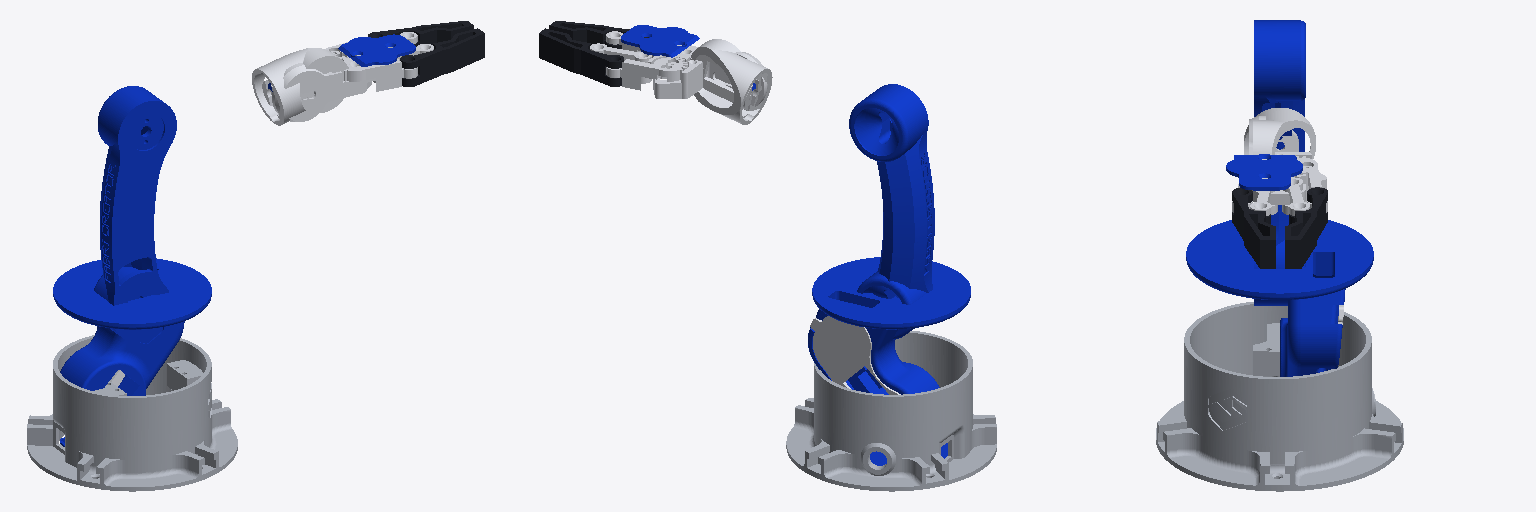
The robot description file, URDF, robot "mobile_retrieval_arm":
<?xml version="1.0"?>
<robot name="mobile_retrieval_arm">

  <!--
    형상과 관절 방향을 확인하기 위한 초기 URDF입니다.
    STL은 mm 단위이므로 0.001 배율로 불러옵니다.
    기준 길이: Base 60 mm, Base-Shoulder 40 mm,
    Shoulder-Elbow 120 mm, Elbow-Wrist 120 mm, Wrist-Gripper 125 mm.
    출력 부품과 서보의 나열 항목 합계는 461.22 g입니다.
    링크별 관성과 충돌 형상은 시뮬레이션 근사값이며 실물 안전 판정에 사용하지 않습니다.
  -->

  <material name="base_gray">
    <color rgba="0.72 0.74 0.78 1.0"/>
  </material>
  <material name="arm_blue">
    <color rgba="0.08 0.25 0.82 1.0"/>
  </material>
  <material name="arm_white">
    <color rgba="0.88 0.89 0.92 1.0"/>
  </material>
  <material name="gripper_dark">
    <color rgba="0.16 0.17 0.20 1.0"/>
  </material>

  <link name="base_link">
    <!-- 질량은 실측, COM·관성·충돌 형상은 단순 원통 근사입니다. -->
    <inertial>
      <origin xyz="0 0 0.020" rpy="0 0 0"/>
      <mass value="0.137140"/>
      <inertia ixx="1.963e-4" ixy="0" ixz="0"
               iyy="1.963e-4" iyz="0" izz="2.074e-4"/>
    </inertial>
    <visual>
      <!-- 캡처의 앞뒤 방향에 맞춰 수직축으로 180도 보정합니다. -->
      <origin xyz="0 0 0" rpy="0 0 3.14159"/>
      <geometry>
        <mesh filename="base.stl" scale="0.001 0.001 0.001"/>
      </geometry>
      <material name="base_gray"/>
    </visual>
    <visual>
      <!-- Base cover의 중심 높이를 Base 기준 0 mm로 배치합니다. -->
      <origin xyz="0.04068 -0.09288 -0.03904" rpy="1.5708 0 3.14159"/>
      <geometry>
        <mesh filename="base_cover.stl" scale="0.001 0.001 0.001"/>
      </geometry>
      <material name="arm_blue"/>
    </visual>
    <collision>
      <origin xyz="0 0 0.020" rpy="0 0 0"/>
      <geometry><cylinder radius="0.055" length="0.080"/></geometry>
    </collision>
  </link>

  <link name="base_yaw_link">
    <inertial>
      <origin xyz="0.001113 0.005163 0.016565" rpy="0 0 0"/>
      <mass value="0.114160"/>
      <inertia ixx="8.132757157e-5" ixy="-2.417595347e-6" ixz="-7.328531391e-6"
               iyy="9.536154170e-5" iyz="8.260441071e-6" izz="6.015328680e-5"/>
    </inertial>
    <visual>
      <!-- 중심 높이 60 mm에서 X축 기준 -90도로 회전합니다. -->
      <origin xyz="-0.04078 -0.09288 0.14050" rpy="-1.5708 0 0"/>
      <geometry>
        <mesh filename="central_shaft.stl" scale="0.001 0.001 0.001"/>
      </geometry>
      <material name="arm_blue"/>
    </visual>
    <visual>
      <origin xyz="-0.04078 -0.09288 0.14050" rpy="-1.5708 0 0"/>
      <geometry>
        <mesh filename="shaft_cover.stl" scale="0.001 0.001 0.001"/>
      </geometry>
      <material name="arm_white"/>
    </visual>
    <collision>
      <origin xyz="0 0 0" rpy="0 0 0"/>
      <geometry><cylinder radius="0.047" length="0.090"/></geometry>
    </collision>
  </link>

  <joint name="base_yaw_joint" type="revolute">
    <parent link="base_link"/>
    <child link="base_yaw_link"/>
    <origin xyz="0 0 0.060" rpy="0 0 0"/>
    <axis xyz="0 0 1"/>
    <!-- 시뮬레이션 전용 제한이며 실제 기구의 안전 범위를 의미하지 않습니다. -->
    <limit lower="-1.5708" upper="1.5708" effort="1.0" velocity="1.0"/>
  </joint>

  <link name="shoulder_link">
    <inertial>
      <origin xyz="-0.000694 -0.000824 0.081211" rpy="0 0 0"/>
      <mass value="0.099100"/>
      <inertia ixx="1.730902777e-4" ixy="-2.048137834e-7" ixz="-5.415006315e-6"
               iyy="1.822304764e-4" iyz="-1.548058402e-6" izz="1.810739401e-5"/>
    </inertial>
    <visual>
      <!-- STL의 긴 Y축을 로봇의 위쪽 Z축으로 회전합니다. -->
      <origin xyz="-0.02843 0.08043 -0.16353" rpy="1.5708 0 0"/>
      <geometry>
        <mesh filename="forearm.stl" scale="0.001 0.001 0.001"/>
      </geometry>
      <material name="arm_blue"/>
    </visual>
    <collision>
      <origin xyz="0 0 0.060" rpy="0 0 0"/>
      <geometry><box size="0.038 0.026 0.135"/></geometry>
    </collision>
  </link>

  <joint name="shoulder_joint" type="revolute">
    <parent link="base_yaw_link"/>
    <child link="shoulder_link"/>
    <origin xyz="0 0 0.040" rpy="0 0 0"/>
    <axis xyz="0 1 0"/>
    <!-- 시뮬레이션 전용 제한이며 실제 기구의 안전 범위를 의미하지 않습니다. -->
    <limit lower="-1.5708" upper="1.5708" effort="1.0" velocity="1.0"/>
  </joint>

  <link name="elbow_link">
    <inertial>
      <origin xyz="0.073480 0.001403 0.000108" rpy="0 0 0"/>
      <mass value="0.040770"/>
      <inertia ixx="8.112721811e-6" ixy="8.549514339e-8" ixz="4.954417907e-6"
               iyy="4.733136395e-5" iyz="-4.310091129e-8" izz="4.450906377e-5"/>
    </inertial>
    <visual>
      <!-- 링크 축 기준 90도와 앞뒤 180도 방향을 함께 보정합니다. -->
      <origin xyz="0.05558 0.10534 0.29243" rpy="-1.5708 0 3.14159"/>
      <geometry>
        <mesh filename="upper_arm.stl" scale="0.001 0.001 0.001"/>
      </geometry>
      <material name="arm_white"/>
    </visual>
    <visual>
      <origin xyz="0.05558 0.10534 0.29243" rpy="-1.5708 0 3.14159"/>
      <geometry>
        <mesh filename="servo_retainer.stl" scale="0.001 0.001 0.001"/>
      </geometry>
      <material name="arm_blue"/>
    </visual>
    <collision>
      <origin xyz="0.060 0 0" rpy="0 0 0"/>
      <geometry><box size="0.114 0.034 0.045"/></geometry>
    </collision>
  </link>

  <joint name="elbow_joint" type="revolute">
    <parent link="shoulder_link"/>
    <child link="elbow_link"/>
    <origin xyz="0 0 0.1200" rpy="0 0 0"/>
    <axis xyz="0 1 0"/>
    <!-- 시뮬레이션 전용 제한이며 실제 기구의 안전 범위를 의미하지 않습니다. -->
    <limit lower="-1.5708" upper="1.5708" effort="1.0" velocity="1.0"/>
  </joint>

  <link name="wrist_tilt_link">
    <inertial>
      <origin xyz="0.002825 -0.003864 0.002145" rpy="0 0 0"/>
      <mass value="0.025150"/>
      <inertia ixx="4.584678966e-6" ixy="1.079316470e-6" ixz="-2.312389030e-6"
               iyy="1.407381760e-5" iyz="2.809507332e-7" izz="1.319986230e-5"/>
    </inertial>
    <visual>
      <!-- 현재 방향에서 Y축 기준 180도로 회전합니다. -->
      <origin xyz="-0.07843 -0.10537 -0.30556" rpy="1.5708 0 3.14159"/>
      <geometry>
        <mesh filename="wrist.stl" scale="0.001 0.001 0.001"/>
      </geometry>
      <material name="arm_white"/>
    </visual>
    <visual>
      <origin xyz="-0.07843 -0.10537 -0.30556" rpy="1.5708 0 3.14159"/>
      <geometry>
        <mesh filename="gripper_cover.stl" scale="0.001 0.001 0.001"/>
      </geometry>
      <material name="arm_blue"/>
    </visual>
    <collision>
      <origin xyz="0.020 -0.002 0" rpy="0 0 0"/>
      <geometry><box size="0.095 0.044 0.042"/></geometry>
    </collision>
  </link>

  <joint name="wrist_tilt_joint" type="revolute">
    <parent link="elbow_link"/>
    <child link="wrist_tilt_link"/>
    <origin xyz="0.120 0 0" rpy="0 0 0"/>
    <axis xyz="0 1 0"/>
    <!-- 시뮬레이션 전용 제한이며 실제 기구의 안전 범위를 의미하지 않습니다. -->
    <limit lower="-1.5708" upper="1.5708" effort="1.0" velocity="1.0"/>
  </joint>

  <link name="wrist_rotate_link">
    <inertial>
      <origin xyz="0.017649 0.007816 -0.002994" rpy="0 0 0"/>
      <mass value="0.021440"/>
      <inertia ixx="4.068782823e-6" ixy="-2.661084501e-7" ixz="-1.421389073e-6"
               iyy="8.313140452e-6" iyz="-4.793172245e-7" izz="8.939468435e-6"/>
    </inertial>
    <visual>
      <!-- 그리퍼 끝이 손목에서 약 125 mm가 되도록 원본 조립 좌표를 맞춥니다. -->
      <origin xyz="-0.04800 0.19300 -0.01750" rpy="0 0 3.14159"/>
      <geometry>
        <mesh filename="gripper_base.stl" scale="0.001 0.001 0.001"/>
      </geometry>
      <material name="arm_white"/>
    </visual>
    <collision>
      <origin xyz="0.020 0 0.002" rpy="0 0 0"/>
      <geometry><box size="0.078 0.036 0.036"/></geometry>
    </collision>
  </link>

  <joint name="wrist_rotate_joint" type="revolute">
    <parent link="wrist_tilt_link"/>
    <child link="wrist_rotate_link"/>
    <!-- 그리퍼 전체를 링크 축 기준 왼쪽 90도로 보정합니다. -->
    <origin xyz="0 0 0" rpy="-1.5708 0 0"/>
    <axis xyz="1 0 0"/>
    <!-- 시뮬레이션 전용 제한이며 실제 기구의 안전 범위를 의미하지 않습니다. -->
    <limit lower="-1.5708" upper="1.5708" effort="1.0" velocity="1.0"/>
  </joint>

  <link name="gripper_finger_1_link">
    <inertial>
      <origin xyz="0.029076 -0.000567 -0.000355" rpy="0 0 0"/>
      <mass value="0.011850"/>
      <inertia ixx="6.835793869e-7" ixy="-3.998533803e-7" ixz="-3.469091725e-7"
               iyy="8.926460291e-6" iyz="8.228794120e-9" izz="8.837422244e-6"/>
    </inertial>
    <visual>
      <origin xyz="-0.09417 0.19450 -0.00547" rpy="0 0 3.14159"/>
      <geometry>
        <mesh filename="gear_1.stl" scale="0.001 0.001 0.001"/>
      </geometry>
      <material name="arm_white"/>
    </visual>
    <visual>
      <origin xyz="-0.09417 0.19450 -0.00547" rpy="0 0 3.14159"/>
      <geometry>
        <mesh filename="bar_1.stl" scale="0.001 0.001 0.001"/>
      </geometry>
      <material name="arm_white"/>
    </visual>
    <visual>
      <origin xyz="-0.09417 0.19450 -0.00547" rpy="0 0 3.14159"/>
      <geometry>
        <mesh filename="gripper_finger_1.stl" scale="0.001 0.001 0.001"/>
      </geometry>
      <material name="gripper_dark"/>
    </visual>
    <collision>
      <origin xyz="0.047 0 -0.002" rpy="0 0 0"/>
      <geometry><box size="0.064 0.016 0.016"/></geometry>
    </collision>
  </link>

  <joint name="gripper_finger_1_joint" type="revolute">
    <parent link="wrist_rotate_link"/>
    <child link="gripper_finger_1_link"/>
    <origin xyz="0.04617 -0.00150 -0.01204" rpy="0 0 0"/>
    <axis xyz="0 1 0"/>
    <!-- 시각화용 근사값이며 실제 4절 링크 안전 범위가 아닙니다. -->
    <limit lower="-0.18" upper="0.25" effort="0.08" velocity="3.0"/>
    <dynamics damping="0.004" friction="0.002"/>
  </joint>

  <link name="gripper_finger_2_link">
    <inertial>
      <origin xyz="0.030123 -0.000773 0.000841" rpy="0 0 0"/>
      <mass value="0.011610"/>
      <inertia ixx="6.583439517e-7" ixy="-3.514502567e-7" ixz="2.814713817e-7"
               iyy="8.323498475e-6" iyz="-9.071897384e-9" izz="8.244677863e-6"/>
    </inertial>
    <visual>
      <origin xyz="-0.09395 0.19419 -0.02934" rpy="0 0 3.14159"/>
      <geometry>
        <mesh filename="gear_2.stl" scale="0.001 0.001 0.001"/>
      </geometry>
      <material name="arm_white"/>
    </visual>
    <visual>
      <origin xyz="-0.09395 0.19419 -0.02934" rpy="0 0 3.14159"/>
      <geometry>
        <mesh filename="bar_2.stl" scale="0.001 0.001 0.001"/>
      </geometry>
      <material name="arm_white"/>
    </visual>
    <visual>
      <origin xyz="-0.09395 0.19419 -0.02934" rpy="0 0 3.14159"/>
      <geometry>
        <mesh filename="gripper_finger_2.stl" scale="0.001 0.001 0.001"/>
      </geometry>
      <material name="gripper_dark"/>
    </visual>
    <collision>
      <origin xyz="0.047 0 0.002" rpy="0 0 0"/>
      <geometry><box size="0.064 0.016 0.016"/></geometry>
    </collision>
  </link>

  <joint name="gripper_finger_2_joint" type="revolute">
    <parent link="wrist_rotate_link"/>
    <child link="gripper_finger_2_link"/>
    <origin xyz="0.04595 -0.00119 0.01184" rpy="0 0 0"/>
    <axis xyz="0 1 0"/>
    <!-- 반대쪽 링크를 소프트웨어에서 반대 방향으로 함께 움직입니다. -->
    <limit lower="-0.25" upper="0.18" effort="0.08" velocity="3.0"/>
    <dynamics damping="0.004" friction="0.002"/>
  </joint>

  <!-- FK/IK와 TCP 궤적 표시에서 사용하는 끝단 기준점입니다. -->
  <link name="tcp_link">
    <inertial>
      <origin xyz="0 0 0" rpy="0 0 0"/>
      <mass value="0.000001"/>
      <inertia ixx="1e-12" ixy="0" ixz="0"
               iyy="1e-12" iyz="0" izz="1e-12"/>
    </inertial>
  </link>
  <joint name="tcp_fixed_joint" type="fixed">
    <parent link="wrist_rotate_link"/>
    <child link="tcp_link"/>
    <origin xyz="0.125 0 0" rpy="0 0 0"/>
  </joint>

</robot>

--- Facts derived from the render (not from the file) ---
Views: 3 orthographic renders of the robot side by side, from view 1: azimuth 30°, elevation 25°; view 2: azimuth 150°, elevation 25°; view 3: azimuth 270°, elevation 25°.
Model mobile_retrieval_arm with 9 links and 8 joints (7 revolute, 1 fixed), rooted at base_link, posed every joint at zero.
Links seen in each view (by area): view 1: base_link, shoulder_link, base_yaw_link, wrist_tilt_link, gripper_finger_1_link, wrist_rotate_link, gripper_finger_2_link; view 2: base_link, base_yaw_link, shoulder_link, wrist_tilt_link, gripper_finger_2_link, wrist_rotate_link, gripper_finger_1_link; view 3: base_link, base_yaw_link, shoulder_link, wrist_tilt_link, gripper_finger_2_link, gripper_finger_1_link, wrist_rotate_link.
Link boxes in pixels (bbox=[...]): base_link: bbox=[27, 335, 237, 491]; shoulder_link: bbox=[94, 86, 176, 341]; base_yaw_link: bbox=[53, 258, 211, 395]; wrist_tilt_link: bbox=[252, 34, 415, 125]; gripper_finger_1_link: bbox=[342, 28, 484, 91]; wrist_rotate_link: bbox=[272, 55, 375, 121]; gripper_finger_2_link: bbox=[325, 21, 473, 58]; base_link: bbox=[786, 331, 996, 491]; base_yaw_link: bbox=[808, 257, 970, 394]; shoulder_link: bbox=[849, 84, 934, 339]; wrist_tilt_link: bbox=[621, 25, 772, 124]; gripper_finger_2_link: bbox=[539, 28, 687, 90]; wrist_rotate_link: bbox=[645, 52, 767, 106]; gripper_finger_1_link: bbox=[549, 21, 697, 61]; base_link: bbox=[1156, 302, 1403, 491]; base_yaw_link: bbox=[1186, 220, 1373, 376]; shoulder_link: bbox=[1254, 20, 1305, 305]; wrist_tilt_link: bbox=[1226, 108, 1315, 190]; gripper_finger_2_link: bbox=[1282, 156, 1327, 268]; gripper_finger_1_link: bbox=[1232, 159, 1277, 268]; wrist_rotate_link: bbox=[1249, 116, 1326, 204].
Size in the robot's own frame: 0.3101 by 0.13 by 0.2449 metres.
Meshes: 16 distinct files referenced, 15 mesh visuals loaded (15 binary STL); not drawn: 1 (reference not matched to a file when rendering).
